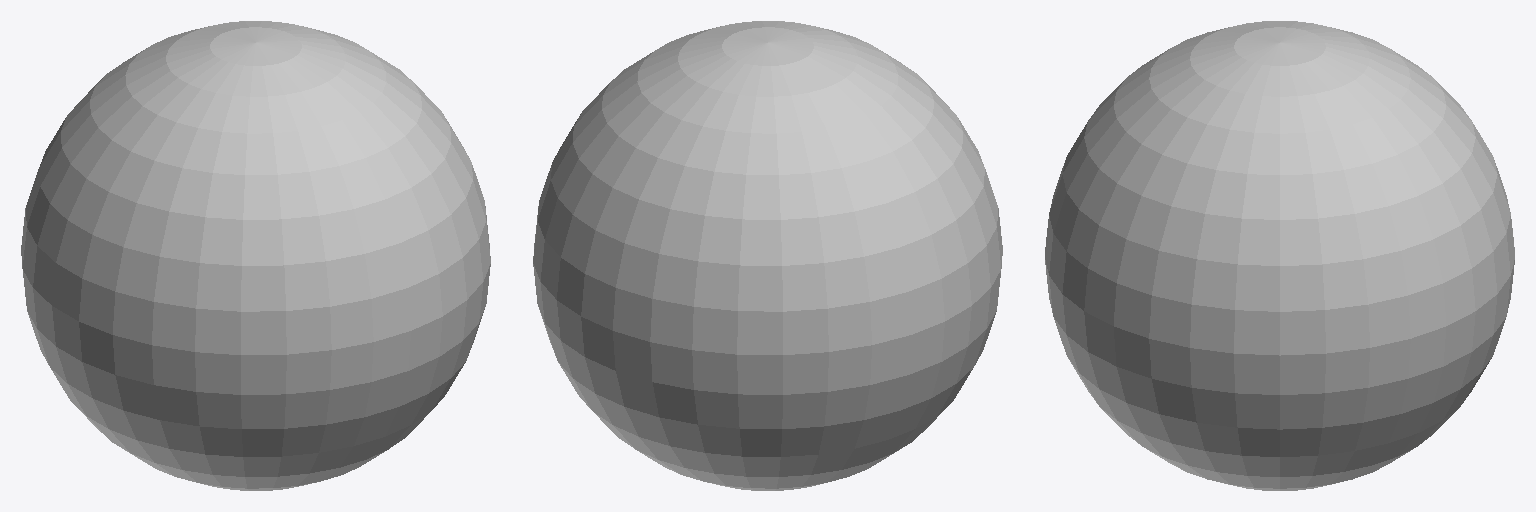
File: cornell3_sphere2_10.obj
The picture shows the model from 3 angles: view 1: azimuth 30°, elevation 25°; view 2: azimuth 150°, elevation 25°; view 3: azimuth 270°, elevation 25°; orthographic projection.
Parts seen in each view (by area): view 1: Sphere; view 2: Sphere; view 3: Sphere.
Boxes of the visible parts, x1,y1,x2,y2 form: Sphere: [21, 21, 490, 490]; Sphere: [533, 21, 1002, 490]; Sphere: [1045, 21, 1514, 490].
Bounding box in the file's own units: 0.398 × 0.398 × 0.398.